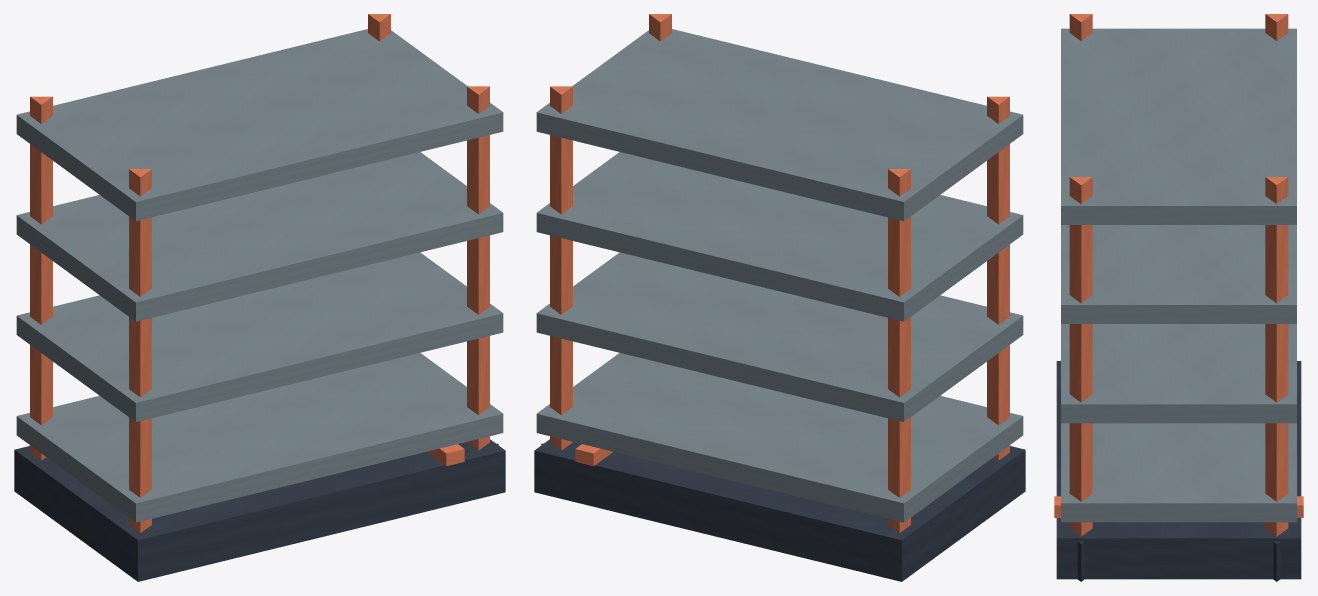
File: atlas100-s028-a06.lod2.glb
3 views of the same model, side by side, from view 1: azimuth 30°, elevation 25°; view 2: azimuth 150°, elevation 25°; view 3: azimuth 270°, elevation 25° (orthographic).
Parts seen in each view (by area): view 1: atlas100-s028-a06:part-014, atlas100-s028-a06:part-011, atlas100-s028-a06:part-012, atlas100-s028-a06:part-013, atlas100-s028-a06:part-000, atlas100-s028-a06:part-005, atlas100-s028-a06:part-009, atlas100-s028-a06:part-003; view 2: atlas100-s028-a06:part-014, atlas100-s028-a06:part-011, atlas100-s028-a06:part-012, atlas100-s028-a06:part-013, atlas100-s028-a06:part-000, atlas100-s028-a06:part-003, atlas100-s028-a06:part-007, atlas100-s028-a06:part-005; view 3: atlas100-s028-a06:part-014, atlas100-s028-a06:part-012, atlas100-s028-a06:part-011, atlas100-s028-a06:part-013, atlas100-s028-a06:part-000, atlas100-s028-a06:part-007, atlas100-s028-a06:part-009, atlas100-s028-a06:part-003, atlas100-s028-a06:part-005.
Part boxes in pixels (x1,y1,x2,y2): atlas100-s028-a06:part-014: (16, 29, 503, 221); atlas100-s028-a06:part-011: (16, 353, 503, 522); atlas100-s028-a06:part-012: (16, 252, 503, 421); atlas100-s028-a06:part-013: (16, 152, 503, 321); atlas100-s028-a06:part-000: (14, 439, 505, 581); atlas100-s028-a06:part-005: (129, 169, 151, 532); atlas100-s028-a06:part-009: (467, 86, 489, 450); atlas100-s028-a06:part-003: (30, 96, 52, 460); atlas100-s028-a06:part-014: (536, 29, 1023, 221); atlas100-s028-a06:part-011: (536, 353, 1023, 522); atlas100-s028-a06:part-012: (536, 252, 1023, 421); atlas100-s028-a06:part-013: (536, 152, 1023, 321); atlas100-s028-a06:part-000: (534, 439, 1025, 581); atlas100-s028-a06:part-003: (888, 169, 910, 532); atlas100-s028-a06:part-007: (550, 86, 572, 450); atlas100-s028-a06:part-005: (987, 96, 1009, 460); atlas100-s028-a06:part-014: (1061, 28, 1296, 224); atlas100-s028-a06:part-012: (1061, 324, 1296, 423); atlas100-s028-a06:part-011: (1061, 423, 1296, 522); atlas100-s028-a06:part-013: (1061, 225, 1296, 323); atlas100-s028-a06:part-000: (1056, 361, 1301, 579); atlas100-s028-a06:part-007: (1265, 177, 1288, 536); atlas100-s028-a06:part-009: (1069, 177, 1092, 536); atlas100-s028-a06:part-003: (1265, 14, 1288, 40); atlas100-s028-a06:part-005: (1069, 14, 1092, 40).
Bounding box in the file's own units: 2.43 × 2.48 × 1.43.
3 materials, 3 textured.
